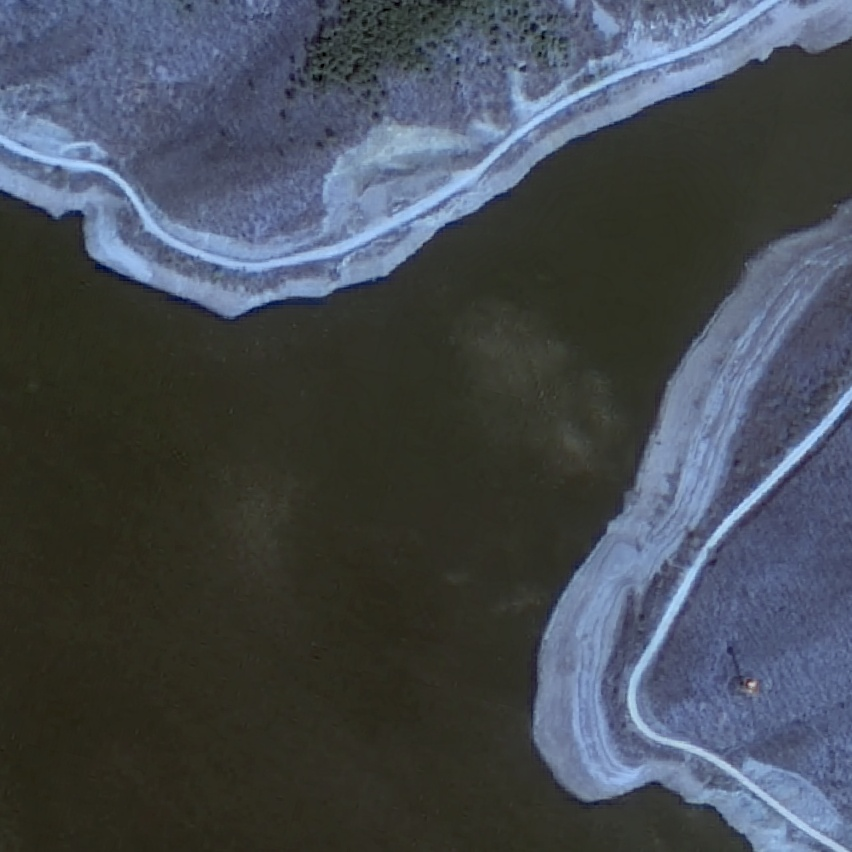slope: (316, 109, 510, 233)
